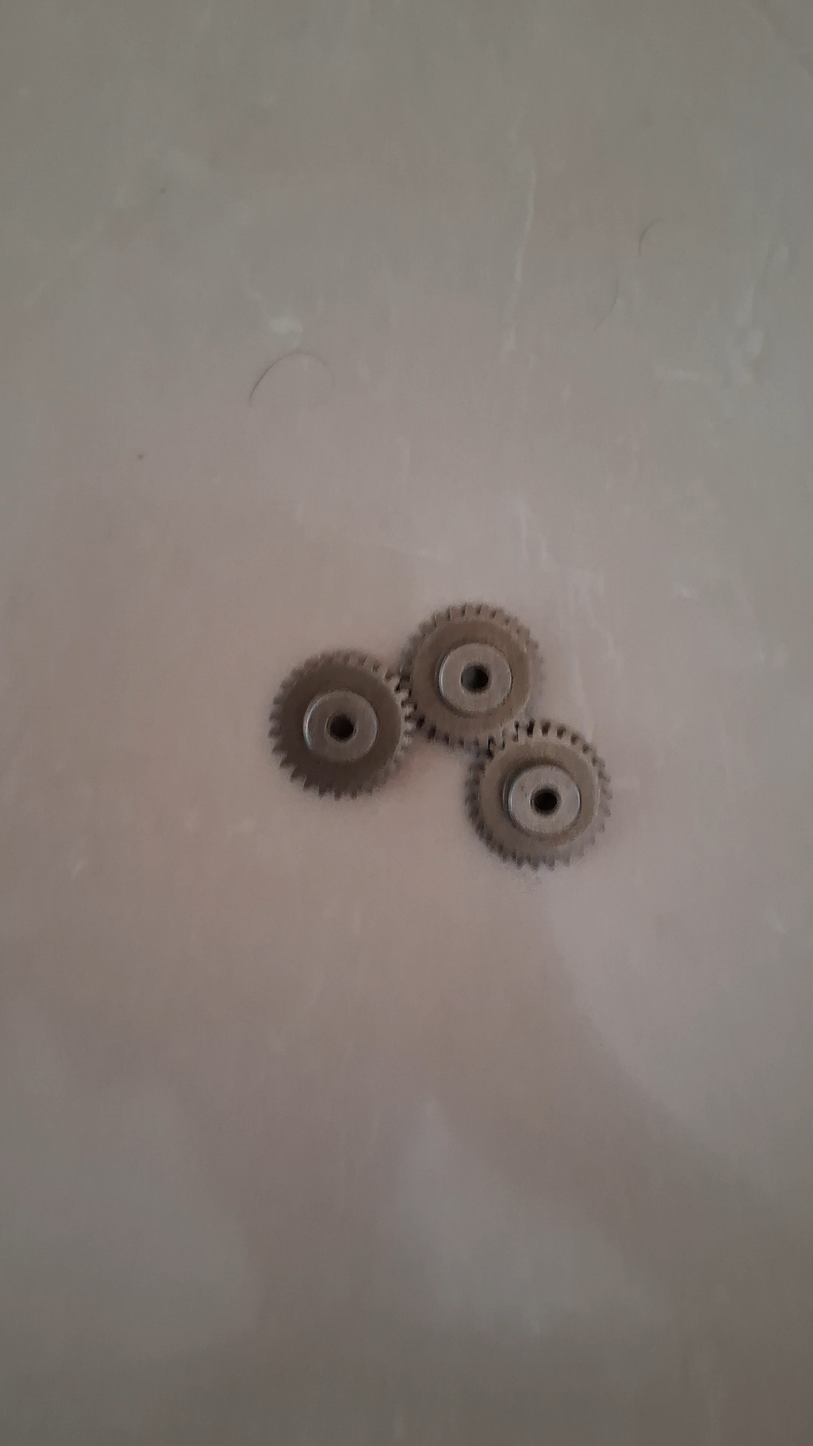spur gear: (467, 721, 610, 867), (270, 652, 414, 796), (402, 603, 539, 747)
